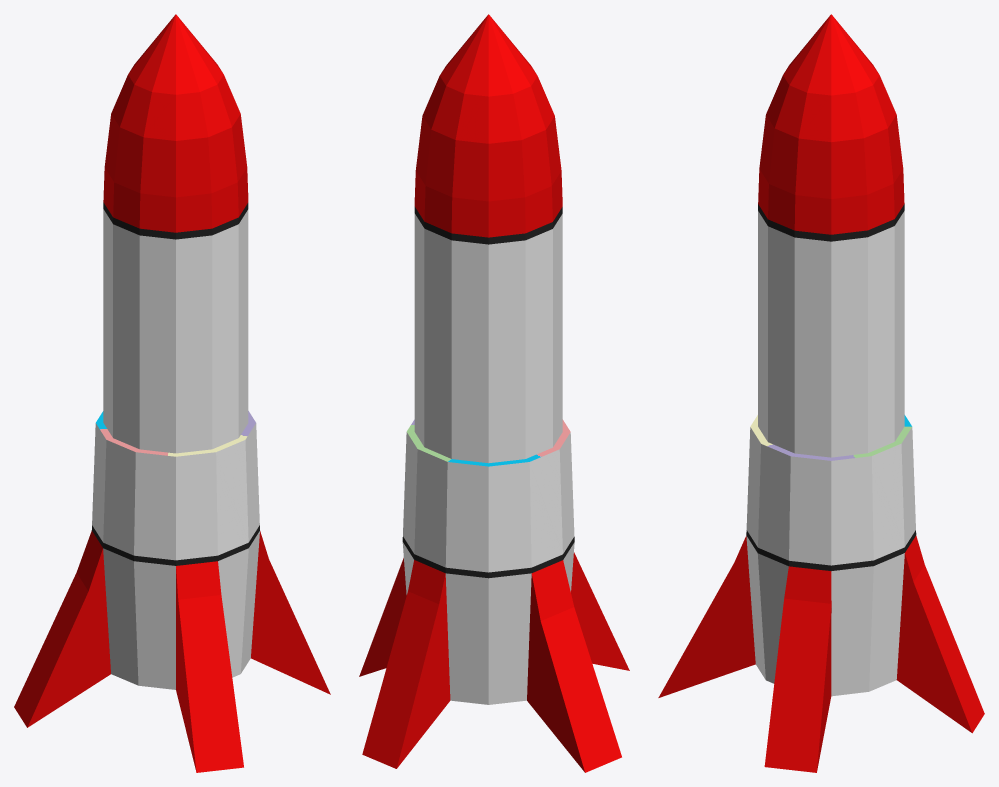
The model's file is Rockets.fbx.
3 views of the same model, side by side, from view 1: azimuth 30°, elevation 25°; view 2: azimuth 150°, elevation 25°; view 3: azimuth 270°, elevation 25° (orthographic). The views are drawn at different scales.
Parts seen in each view (by area): view 1: Cylinder; view 2: Cylinder; view 3: Cylinder.
Boxes of the visible parts, x1,y1,x2,y2 form: Cylinder: (14,14,330,772); Cylinder: (359,14,629,772); Cylinder: (658,14,984,772).
Bounding box in the file's own units: 206 × 494 × 211.
